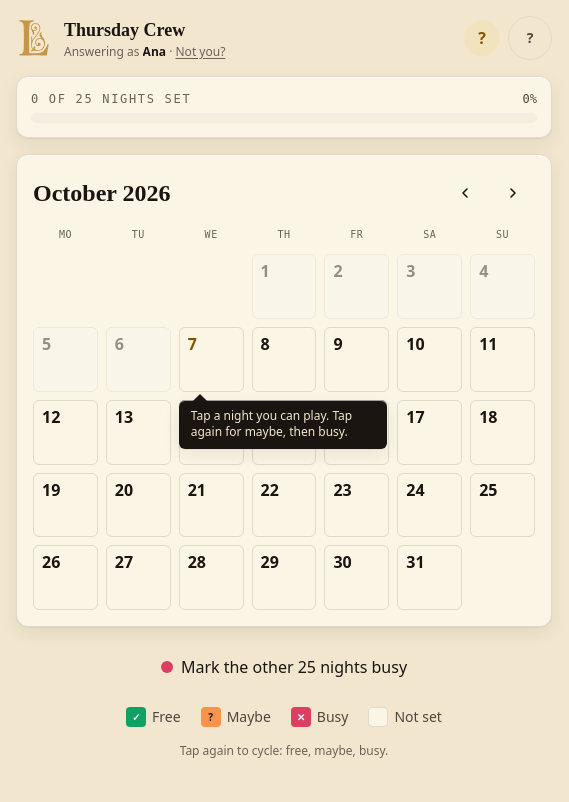
PlayerScreen › keeps Not you selected when the first answer claims after the click
Click the button named "Wednesday, October 7:" at (211, 359), box [179,327,244,392]
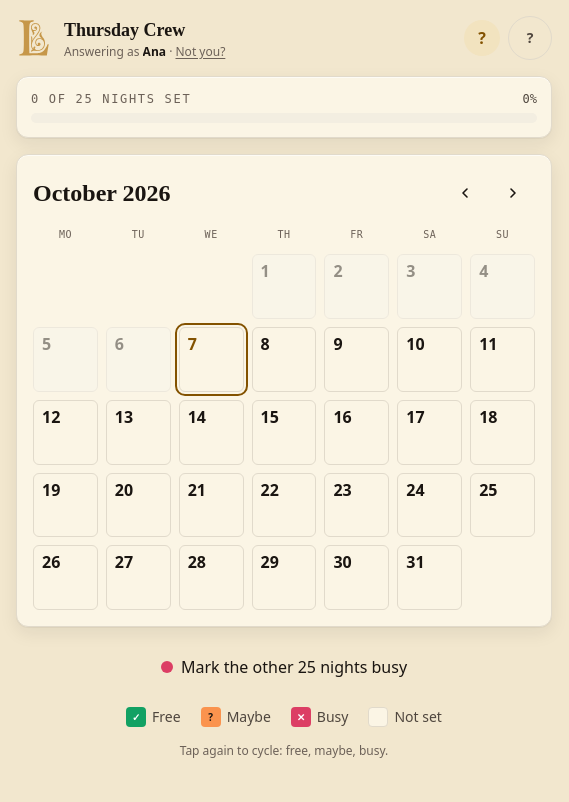
Click the button "Not you?" at (200, 52), box [172,30,229,74]
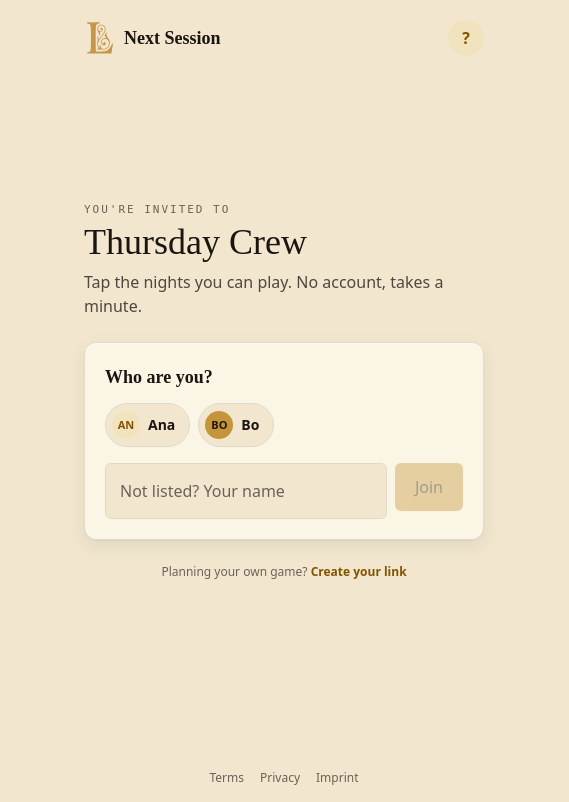
expect the text "Answering as" is gone: met
expect the heading "Who are you?" is shown: met, box [105,367,213,387]
